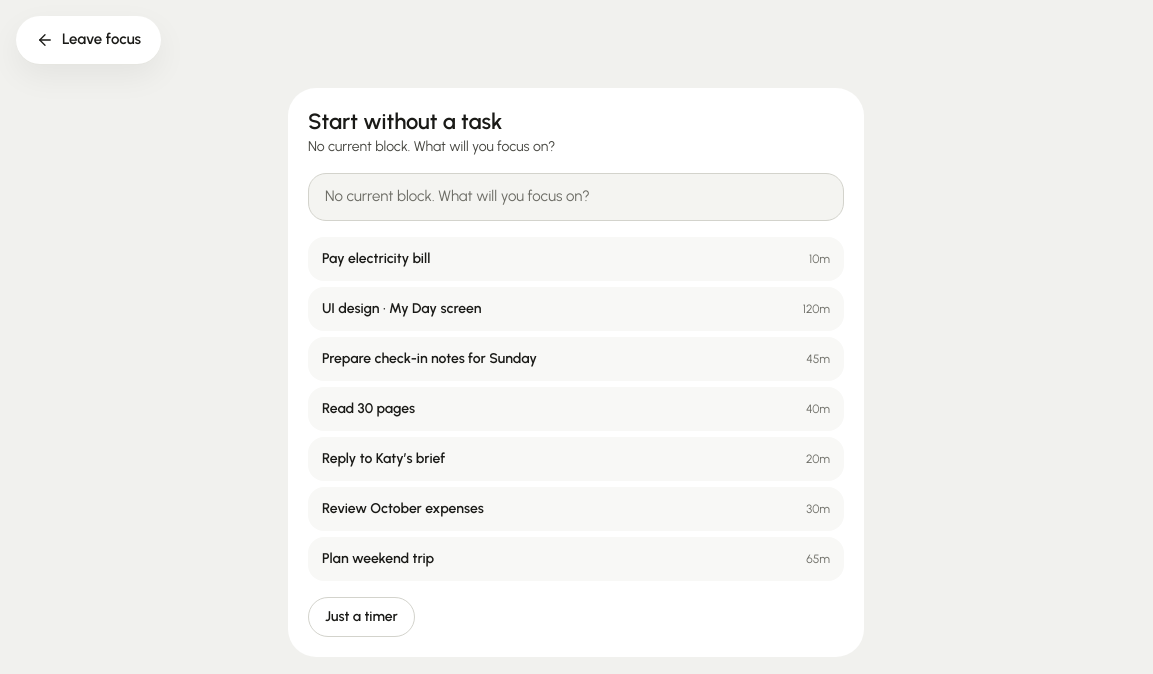
Scenario: FocusScreen › asks what to focus on without a task, and runs just a timer
Click the button "Just a timer" at (361, 617), box [308, 597, 415, 637]
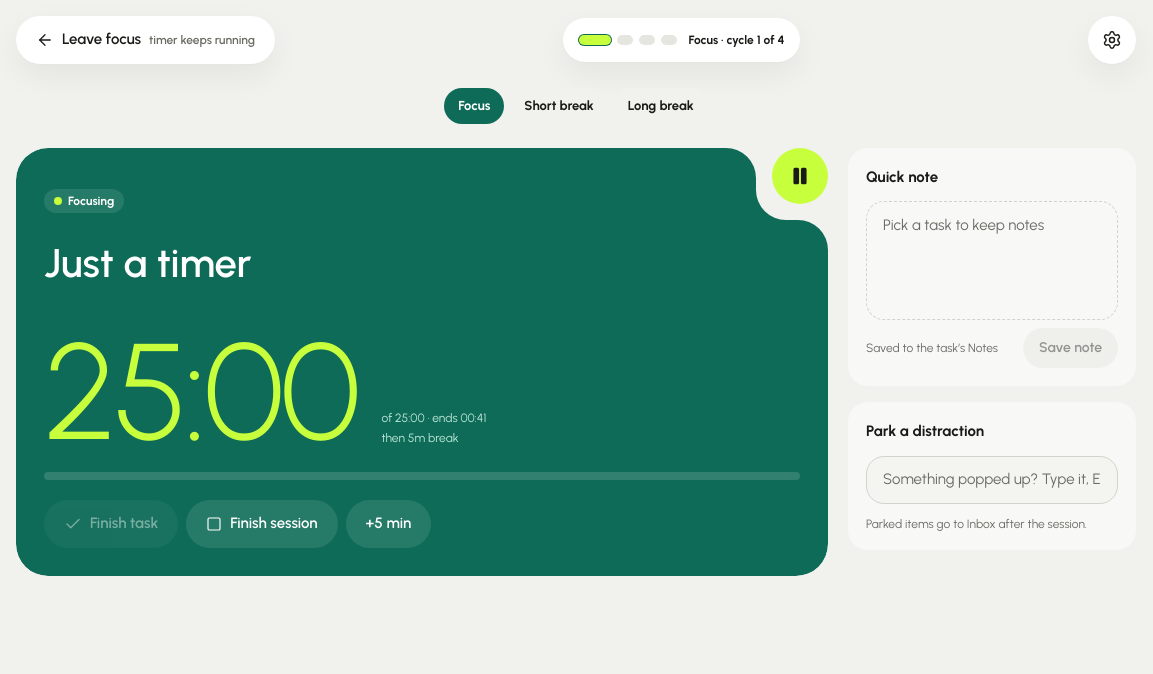
Expected: the heading "Just a timer" is shown, [44, 239, 252, 287]
Expected: the text "25:00" is shown, [44, 324, 357, 460]
